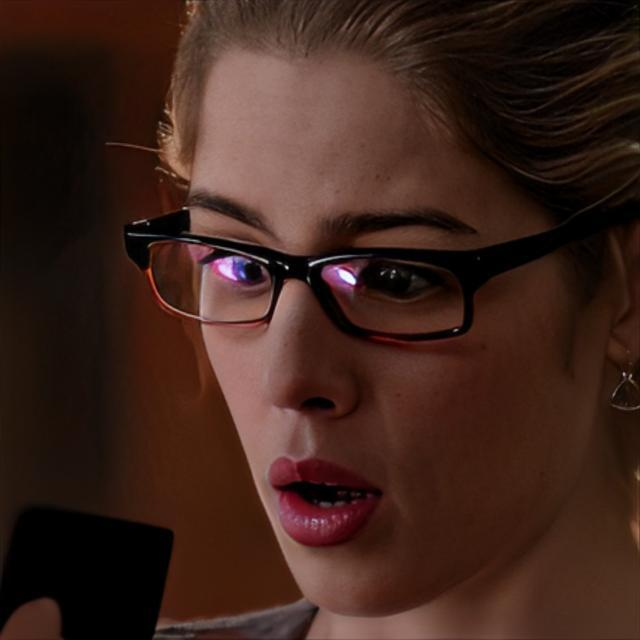surprise: (193, 41, 607, 616)
